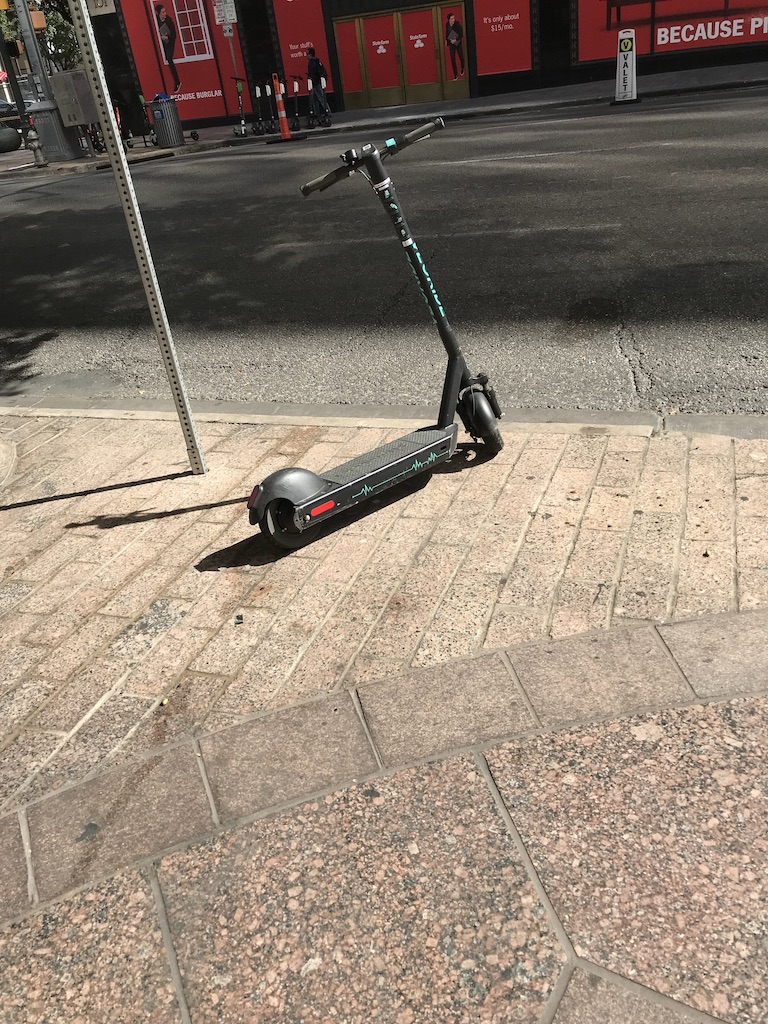scooter: (249, 118, 503, 551)
